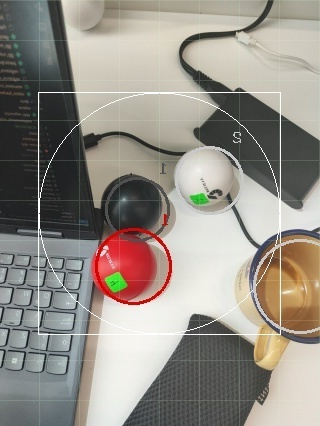Pelota blanca: (122, 316, 273, 425), (247, 228, 320, 344), (173, 145, 244, 214), (234, 182, 284, 246), (252, 331, 292, 371), (58, 0, 105, 30)
Pelota negra: (101, 172, 177, 232)
Pelota roja: (90, 225, 175, 307)
